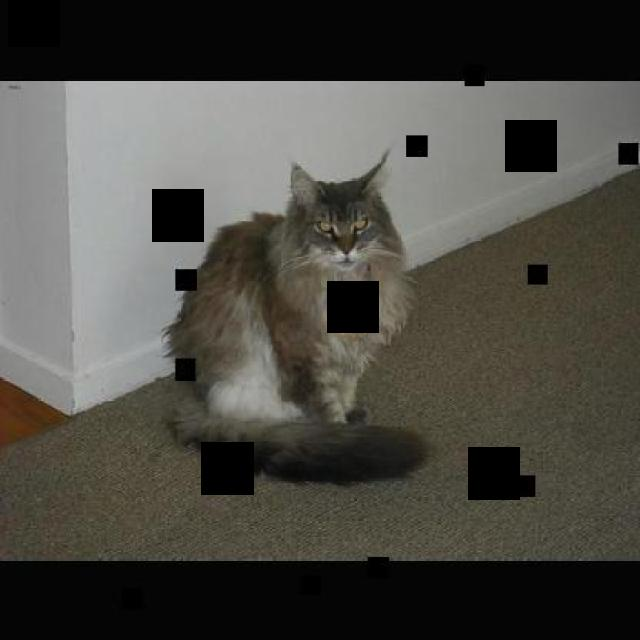unauthorized: (160, 146, 428, 483)
